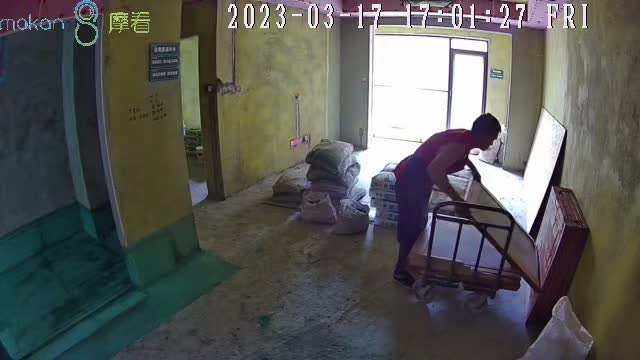people: (394, 113, 502, 287)
window: (374, 31, 486, 145)
